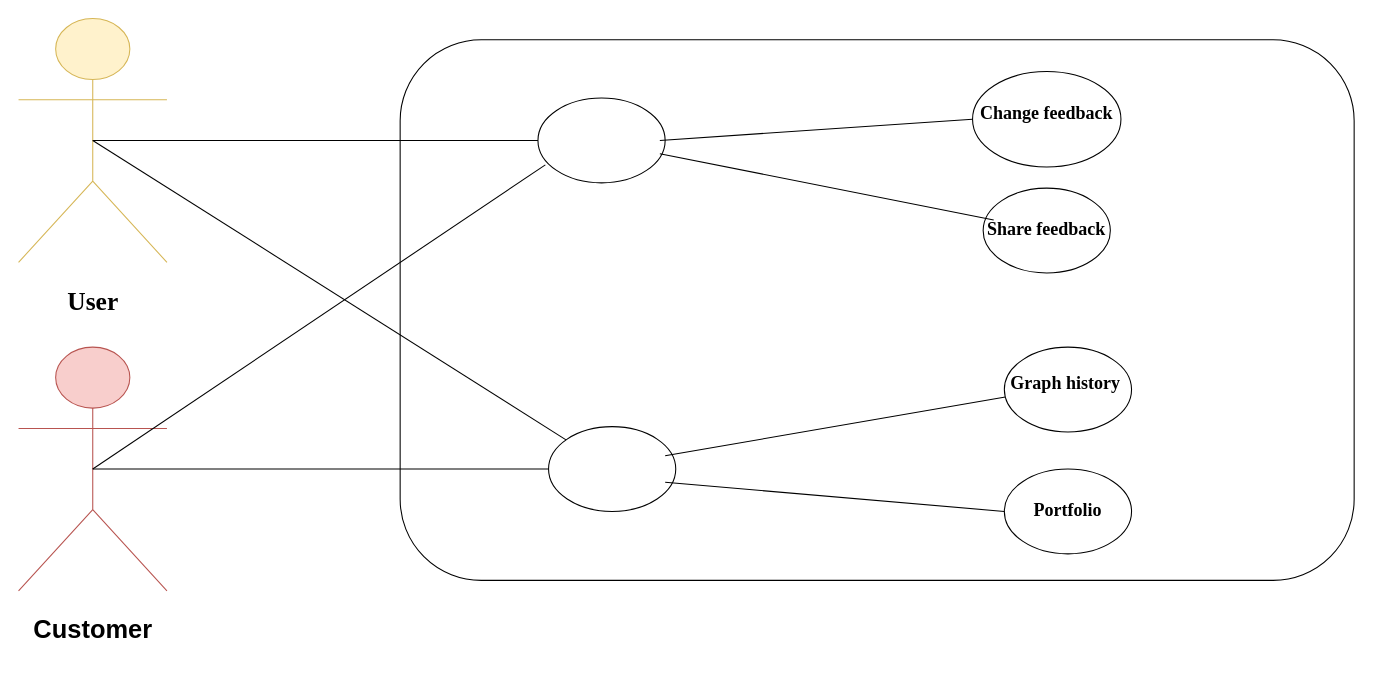
The diagram is 1373 pixels wide and 682 high, and some of its shapes have lost their labels. Here are the shapes that lost their labels. From the top down, the centre of each, then its label:
At point 601,140: "Set feedback".
At point 611,468: "Get feedback".
